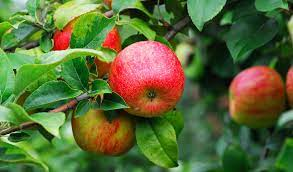tao: (104, 39, 191, 118), (221, 52, 289, 135), (44, 8, 121, 74)
